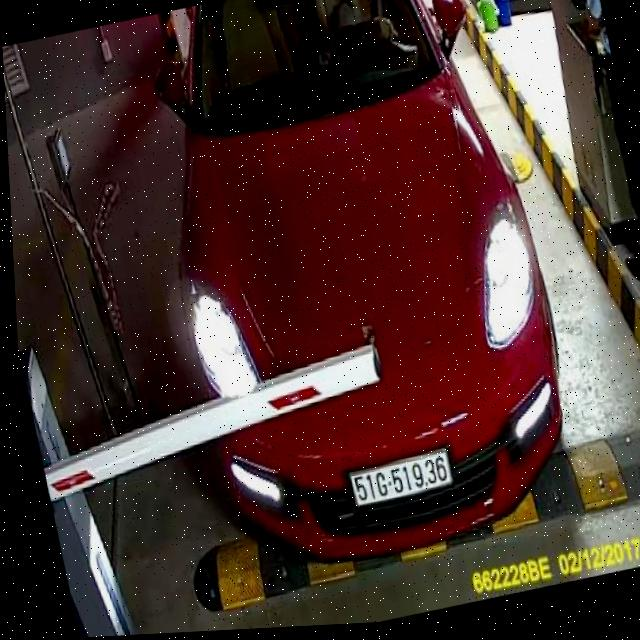car: (114, 0, 607, 595)
plate: (338, 440, 470, 517)
